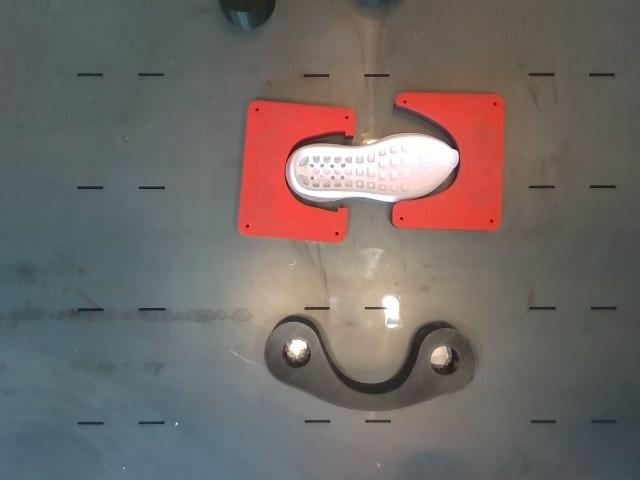shoes: (293, 135, 458, 196)
